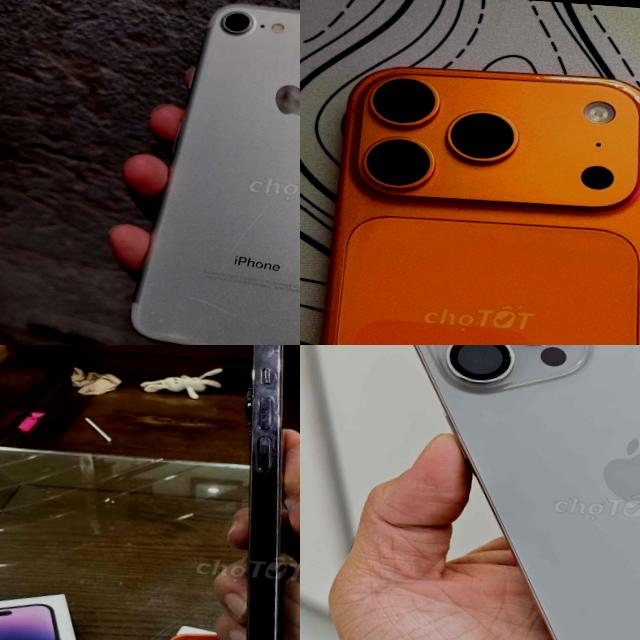scratch: (211, 114, 300, 270), (537, 68, 640, 111), (172, 284, 262, 326), (252, 372, 286, 473), (208, 0, 271, 45), (260, 345, 300, 367), (158, 324, 199, 344)
